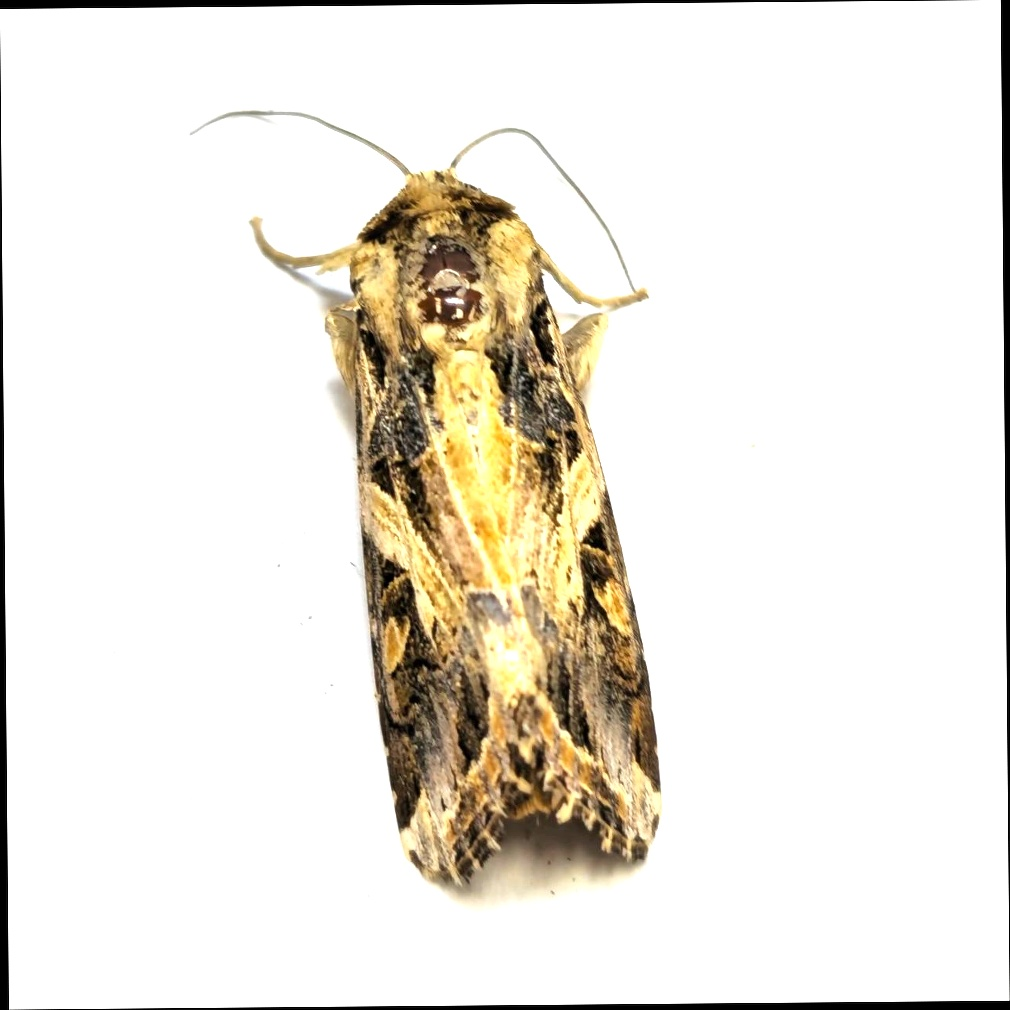Spodoptera litura: (191, 105, 661, 890)
